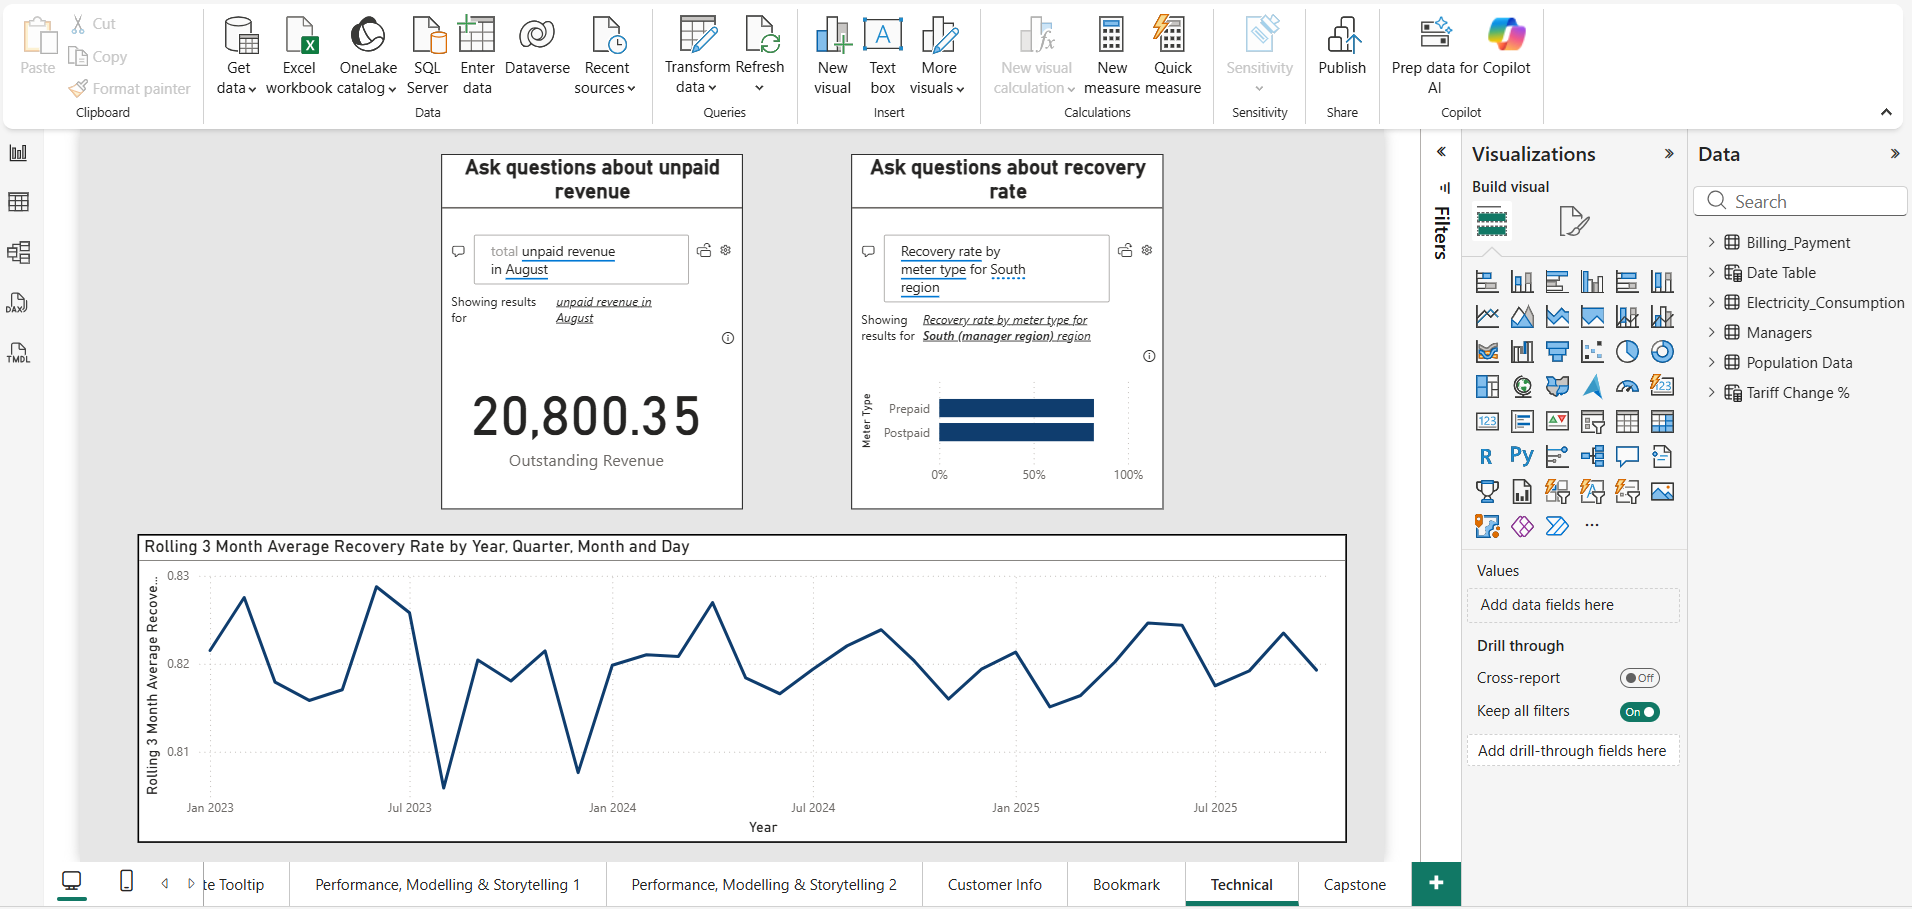

Layout of this report page (visuals, bound fields, positions):
{"tool":"powerbi","page":{"name":"Technical","canvas":[1280,720],"ordinal":7},"visuals":[{"type":"qnaVisual","title":"Ask questions about unpaid revenue","box":[56.5,26.1,295.7,347.8],"z":0},{"type":"qnaVisual","title":"Ask questions about recovery rate","box":[430.4,26.1,307.2,347.8],"z":1000},{"type":"lineChart","fields":{"Y":["Billing_Payment.Rolling 3 Month Average Recovery Rate"],"Category":["Date Table.Date.Variation.Date Hierarchy.Year","Date Table.Date.Variation.Date Hierarchy.Quarter","Date Table.Date.Variation.Date Hierarchy.Month","Date Table.Date.Variation.Date Hierarchy.Day"]},"box":[56.5,397.1,1187,302.9],"z":2000},{"type":"PowerApps_PBI_CV_C29F1DCC_81F5_4973_94AD_0517D44CC06A","fields":{"table":["Billing_Payment.Repeated_Flag","Billing_Payment.Customer"]},"box":[798.8,25.8,445.4,348.5],"z":3000}]}

Visuals, with their boxes on the page's 1280x720 design canvas (x1, y1, x2, y2). These are canvas units, not pixel positions in the 1912x909 screenshot, which may show the page scaled, cropped or inside an application window:
"Ask questions about unpaid revenue" qnaVisual: {"x1": 56, "y1": 26, "x2": 352, "y2": 374}
"Ask questions about recovery rate" qnaVisual: {"x1": 430, "y1": 26, "x2": 738, "y2": 374}
lineChart - Billing_Payment.Rolling 3 Month Average Recovery Rate x Date Table.Date.Variation.Date Hierarchy.Year: {"x1": 56, "y1": 397, "x2": 1244, "y2": 700}
PowerApps_PBI_CV_C29F1DCC_81F5_4973_94AD_0517D44CC06A - Billing_Payment.Repeated_Flag x Billing_Payment.Customer: {"x1": 799, "y1": 26, "x2": 1244, "y2": 374}
